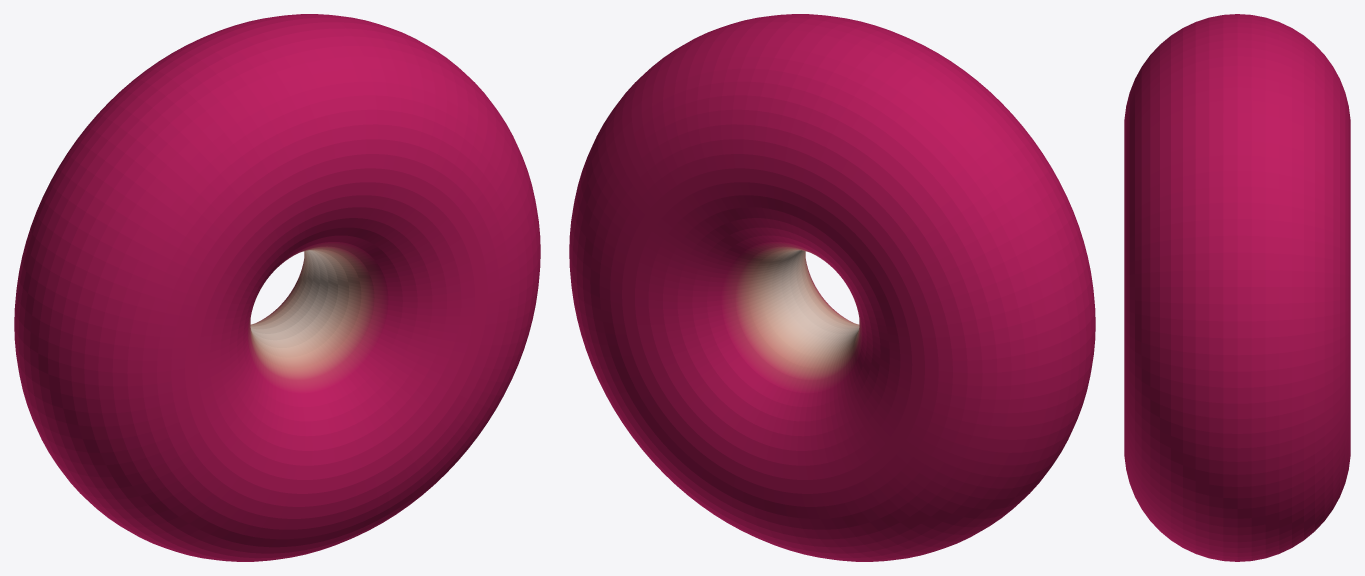
3 views of the same model, side by side, from view 1: azimuth 30°, elevation 25°; view 2: azimuth 150°, elevation 25°; view 3: azimuth 270°, elevation 25° (orthographic). The views are drawn at different scales.
Visible parts, largest first — view 1: world; view 2: world; view 3: world.
Part boxes in pixels (x1,y1,x2,y2): world: [14, 14, 540, 561]; world: [569, 14, 1095, 561]; world: [1124, 14, 1350, 561].
Bounding box in the file's own units: 21.6 × 21.6 × 8.92.
